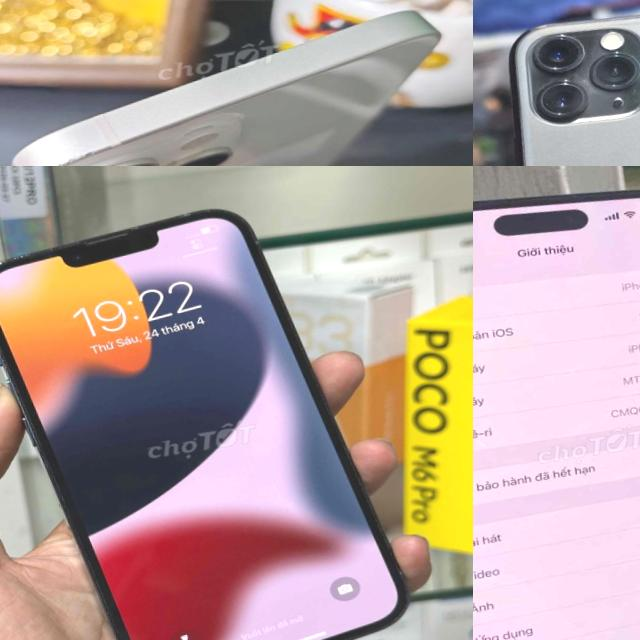gen_11: (474, 0, 640, 166)
gen_12_13: (0, 183, 418, 640)
gen_14: (0, 5, 473, 166)
gen_15: (473, 166, 640, 640)
scratch: (0, 235, 68, 377), (104, 199, 240, 248)
